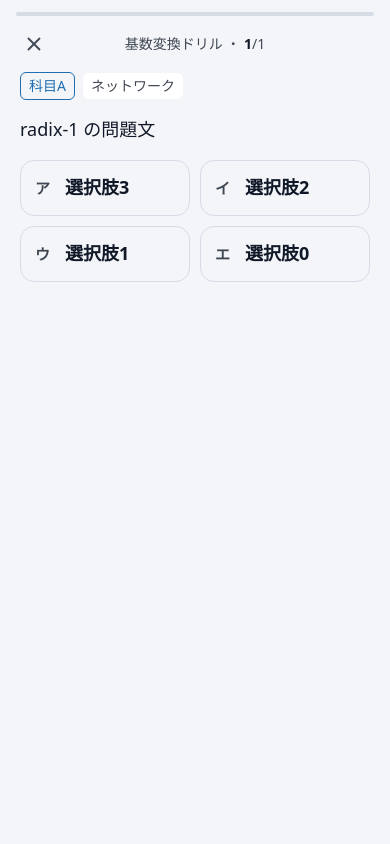
Test case: 演習（S03） › 基数変換の自動生成問題は記録しない
The width and height of the screenshot is (390, 844).
Click the button "ア 選択肢3": (105, 188) [20,160,190,216]
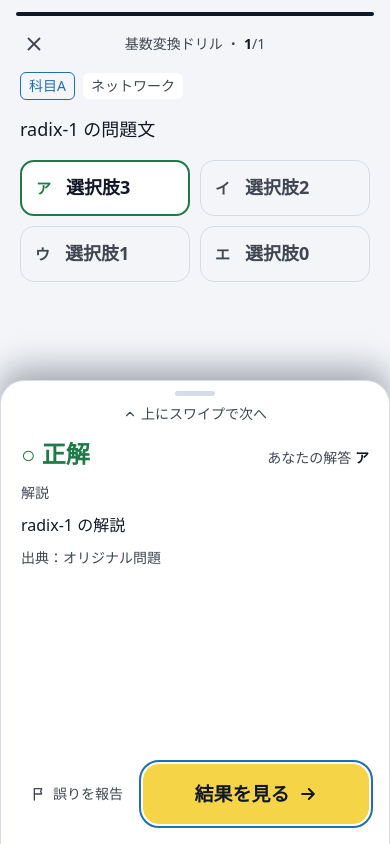
Result: the text "○ 正解" is shown at [21,438,90,469]
